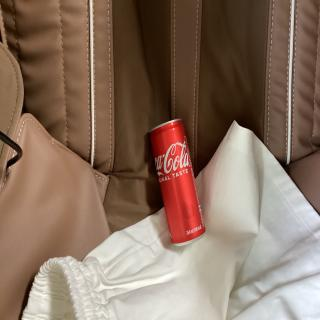cocacola: (144, 109, 215, 248)
